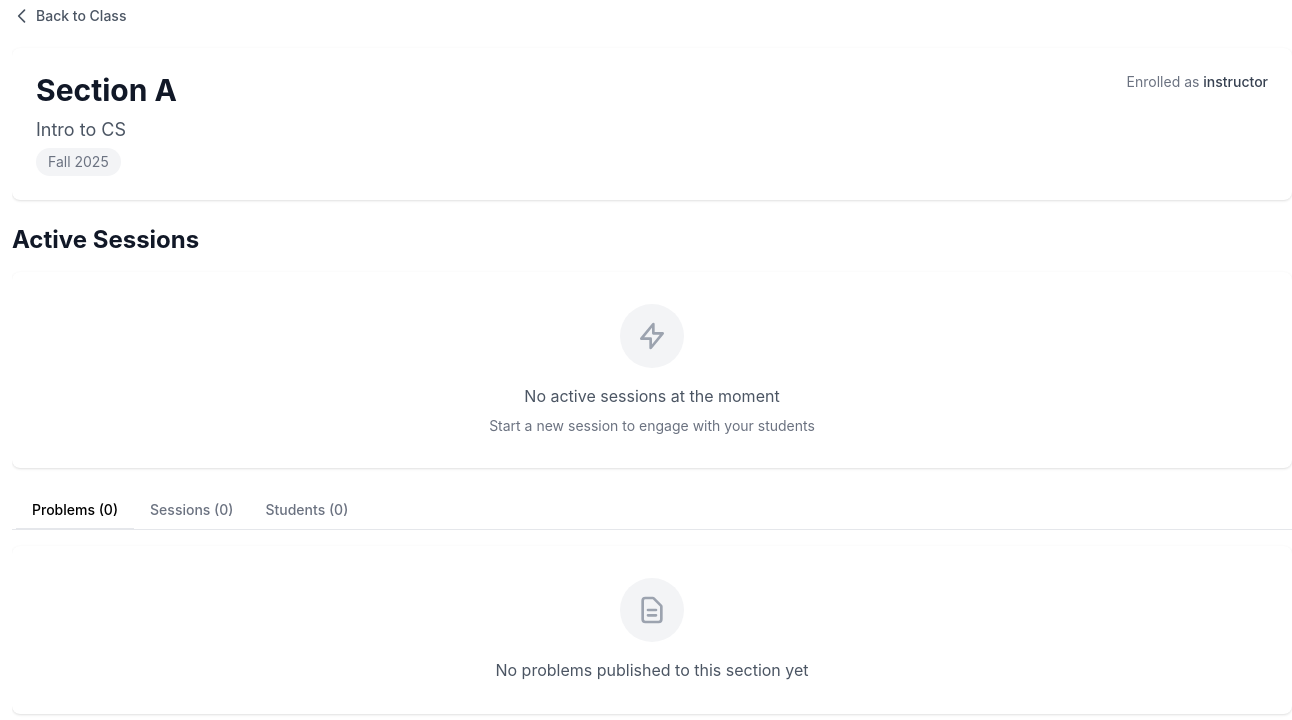
Test case: InstructorSectionView › past sessions › shows empty state when no past sessions (Sessions tab)
Click the tab "Sessions (0)" at (192,511), box [134,492,250,530]
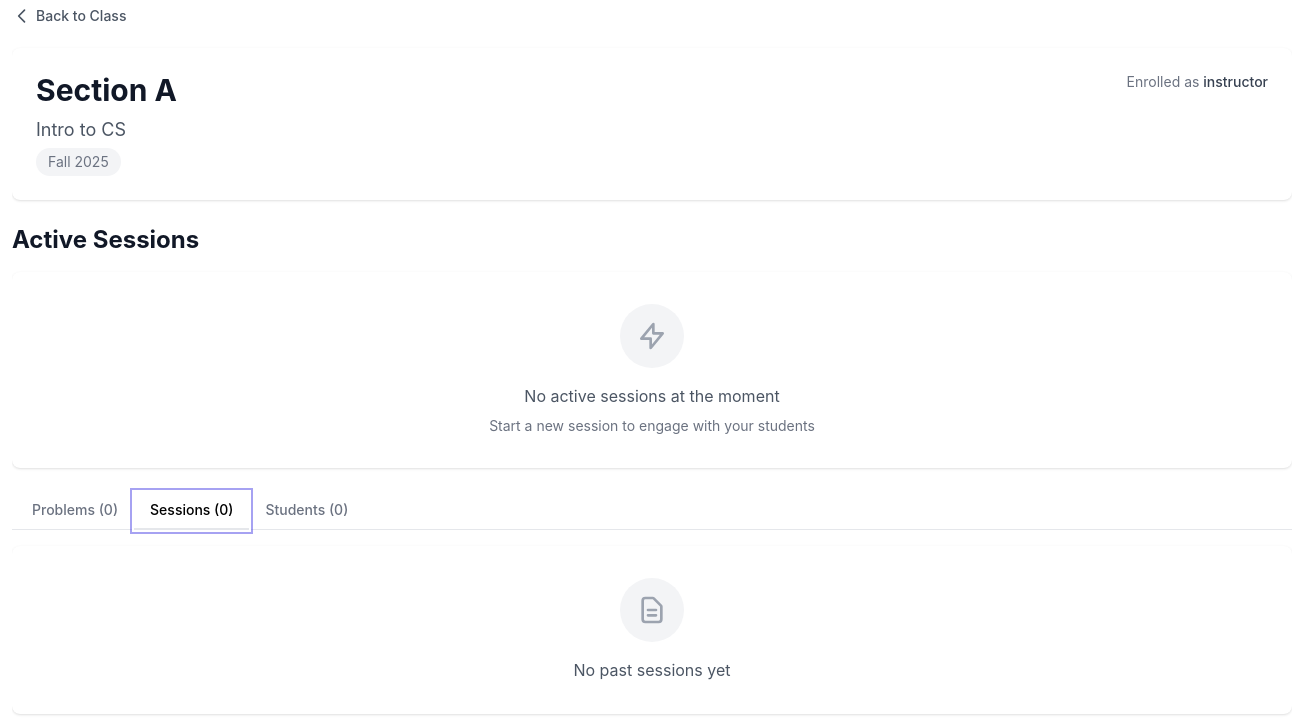
Expected: the text "No past sessions yet" is shown, [574,660,730,680]
